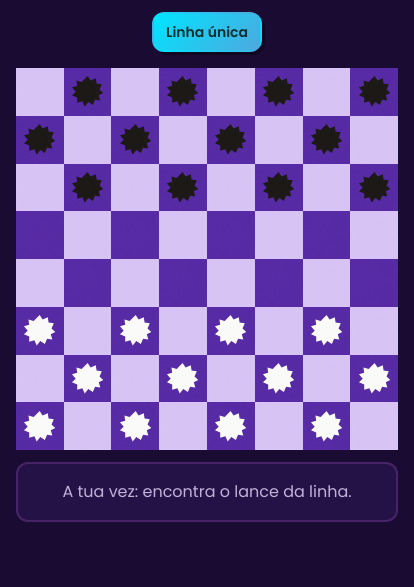
Scenario: OpeningPractice › shows the completion card once the line is finished
Click the button named "square 11".
click(279, 187)  # box [255, 164, 303, 211]
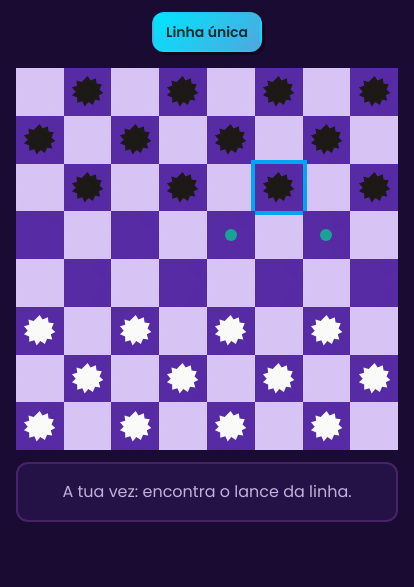
Click the button named "square 15".
click(231, 235)  # box [207, 211, 255, 259]
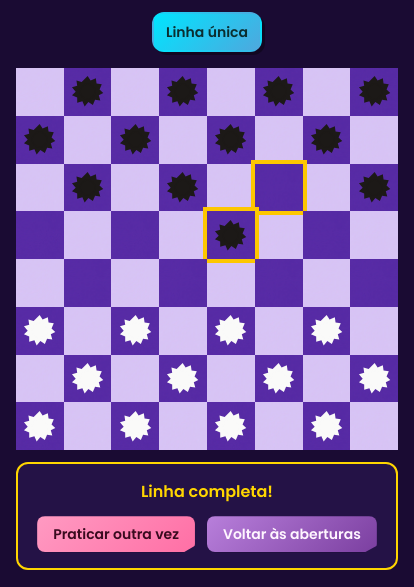
Expected: the text "Linha completa!" is shown, [141, 480, 273, 503]
Expected: the button "Praticar outra vez" is shown, [37, 516, 195, 552]
